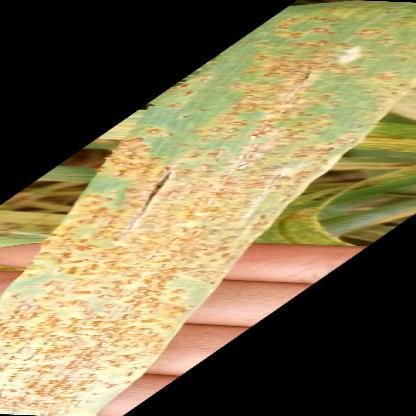Wheat Brown-rust: (269, 13, 404, 65), (112, 154, 302, 188), (70, 228, 227, 269), (179, 108, 343, 147), (226, 69, 392, 105), (89, 193, 278, 222), (66, 274, 194, 315), (9, 318, 154, 353), (8, 356, 102, 404)
